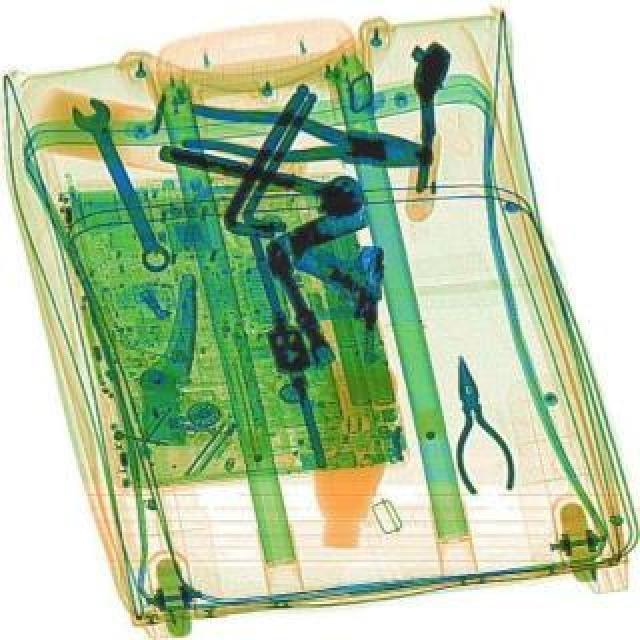gun: (278, 236, 386, 364)
scissors: (66, 92, 180, 278)
wrench: (176, 96, 436, 186), (432, 350, 516, 498)
